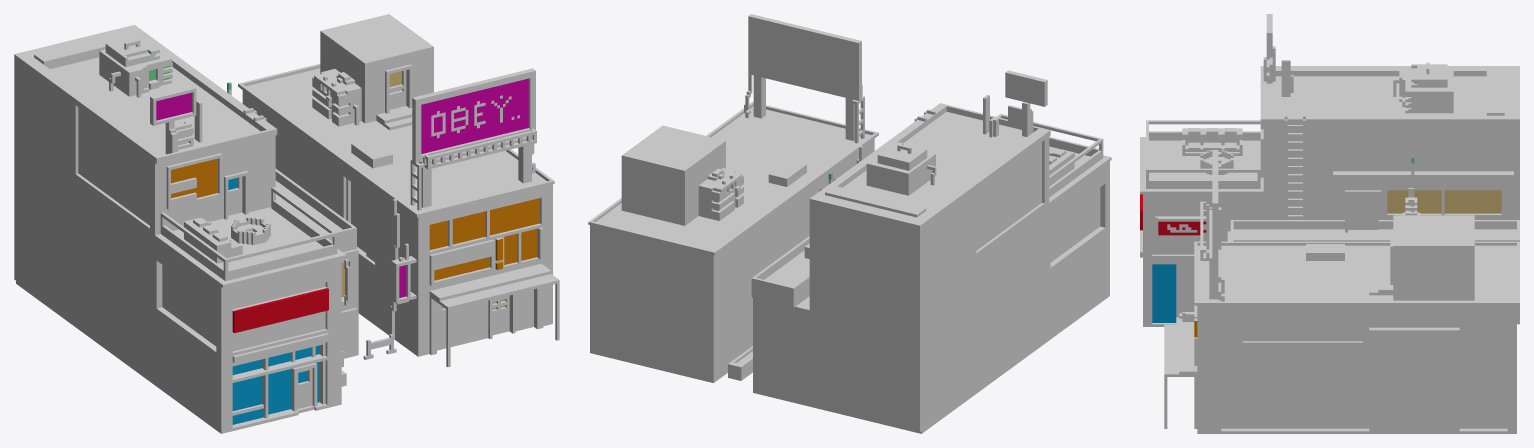
Rendered from kannoncity1 (1).fbx.
3 views of the same model, side by side, from view 1: azimuth 30°, elevation 25°; view 2: azimuth 150°, elevation 25°; view 3: azimuth 270°, elevation 25° (orthographic). The views are drawn at different scales.
Visible parts, largest first — view 1: kannoncity1.002; view 2: kannoncity1.002; view 3: kannoncity1.002.
Part boxes in pixels (box(x1,y1,x2,y2)): kannoncity1.002: box(14, 14, 559, 433); kannoncity1.002: box(588, 14, 1111, 433); kannoncity1.002: box(1140, 14, 1519, 433).
Size of the model in its own units: 12600 by 9500 by 12600.
